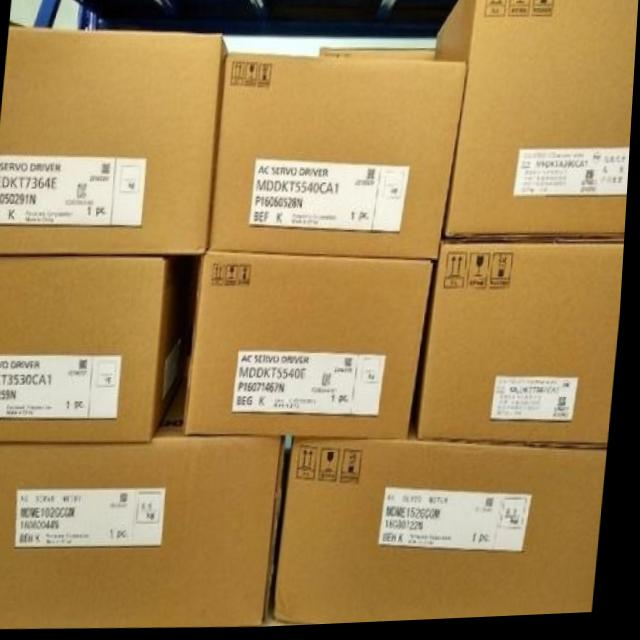box: (0, 375, 291, 627), (280, 423, 611, 627), (211, 53, 468, 263), (0, 26, 229, 255), (434, 0, 639, 245), (186, 253, 439, 443), (419, 244, 628, 453), (0, 256, 190, 445)
